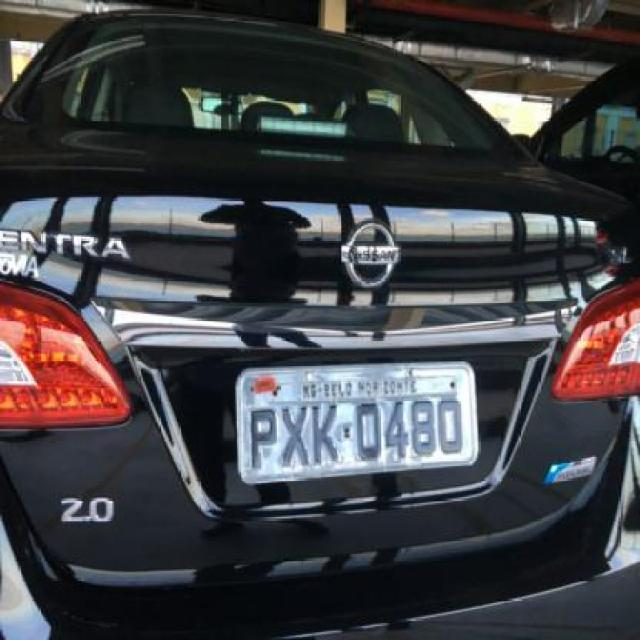old_plate: (227, 350, 483, 493)
